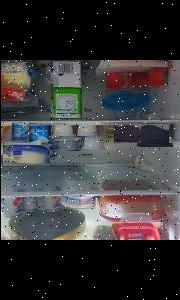Aguacate: (136, 123, 172, 146), (113, 124, 140, 143)
Leche: (50, 60, 81, 118)
Mantequilla: (111, 221, 162, 240)
Queso: (0, 62, 45, 112), (2, 142, 49, 164), (48, 136, 80, 150)
Tomate: (144, 67, 166, 87), (127, 72, 148, 92), (105, 73, 126, 89)
Yogur: (28, 122, 50, 144), (11, 122, 28, 144)
